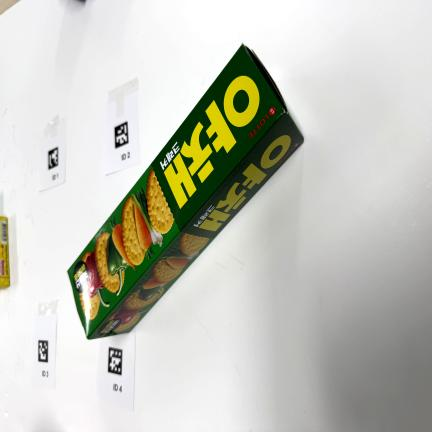cracker_vege: (68, 45, 303, 339)
